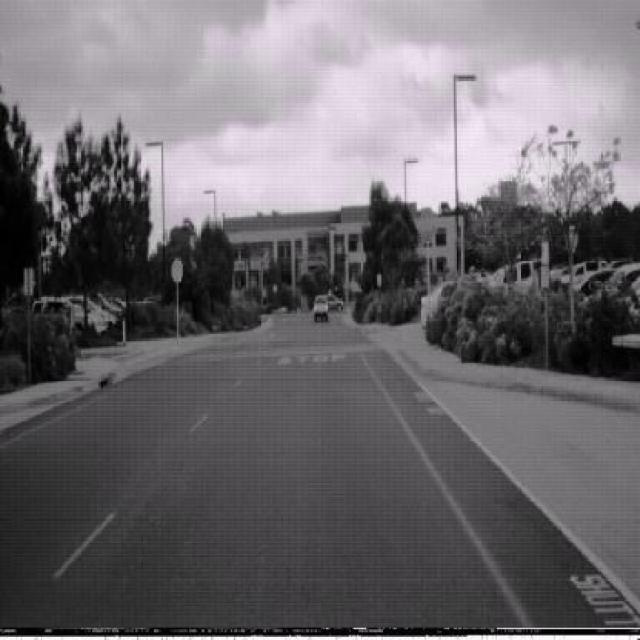stop: (418, 204, 437, 243)
